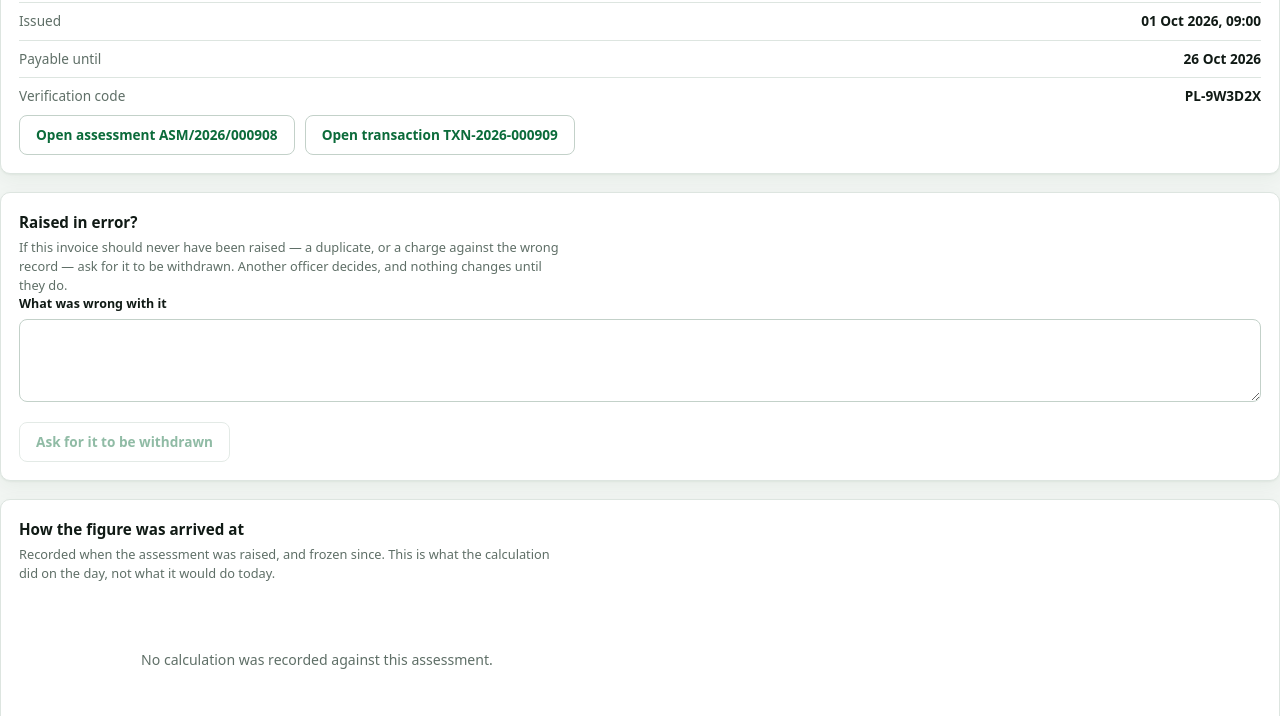
Test: an unpaid bill raised in error › says why the server would not take it
(page scrolled)
Type "Charged twice; the first press timed out." into the text box labelled "What was wrong with it" at x=640, y=361, box top-left (19, 319), bottom-right (1261, 402)
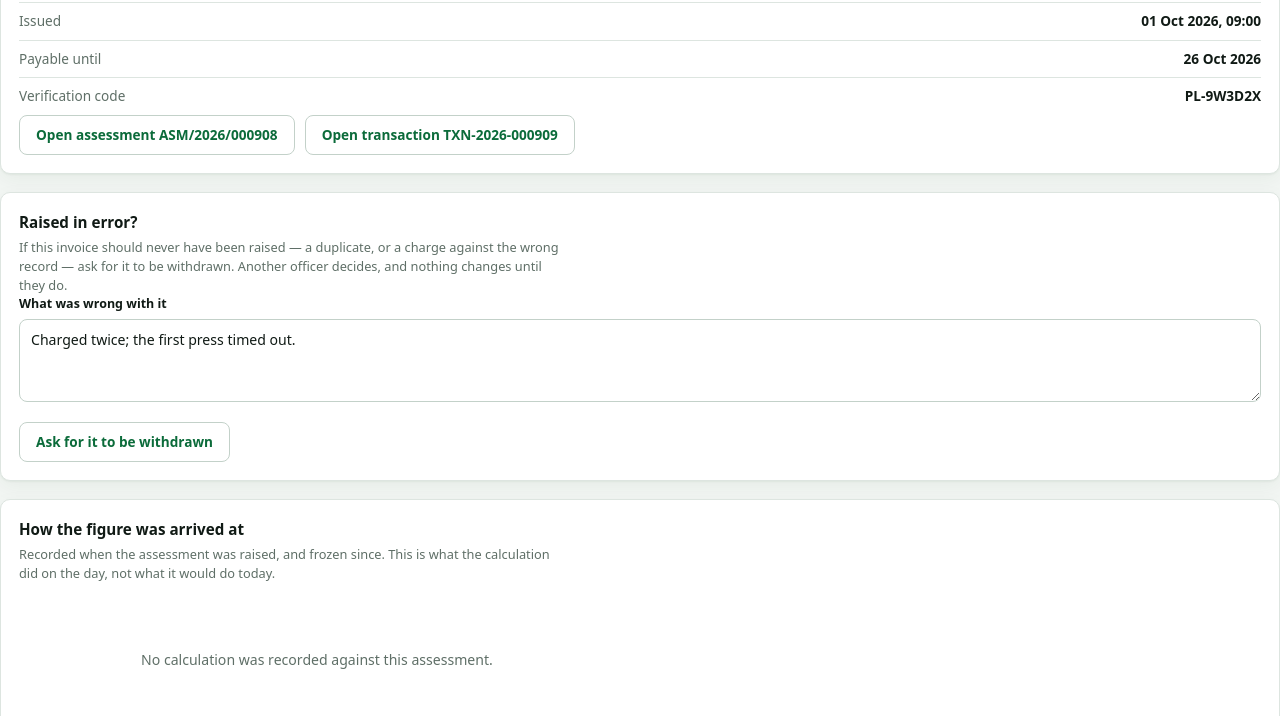
Click the button "Ask for it to be withdrawn" at x=124, y=442, box top-left (19, 422), bottom-right (230, 462)
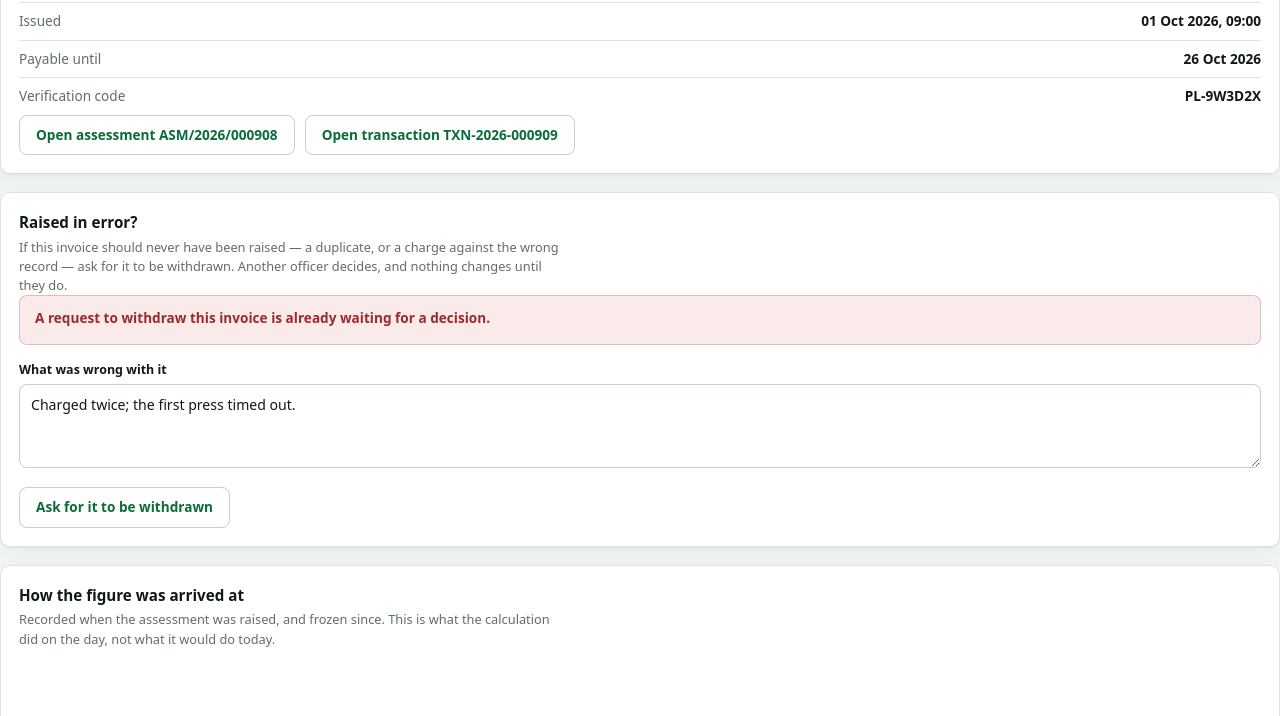
expect the text "already waiting for a decision" is shown: met, box top-left (35, 308), bottom-right (490, 327)
